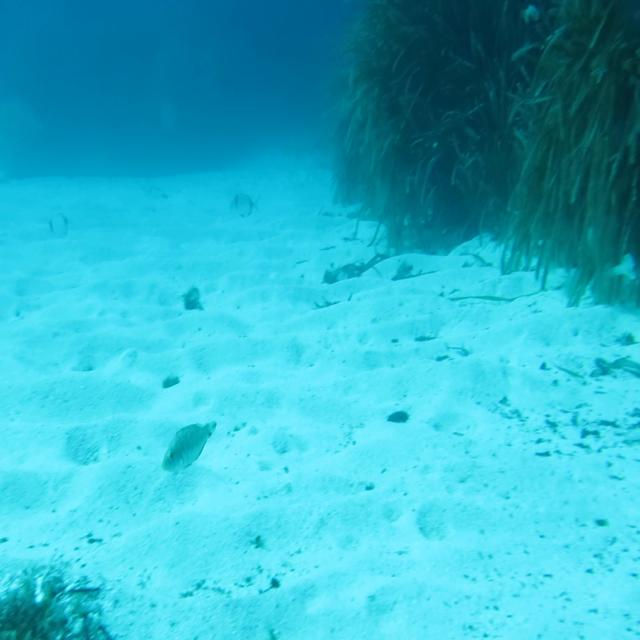BN: (158, 417, 220, 474)
female: (604, 253, 640, 281)
nest: (0, 551, 113, 640)
other_fish: (227, 192, 261, 221), (44, 206, 70, 240), (522, 0, 540, 24)
vegetation: (315, 0, 640, 318), (539, 345, 640, 487), (380, 403, 412, 423), (183, 282, 201, 315), (158, 375, 181, 391)
